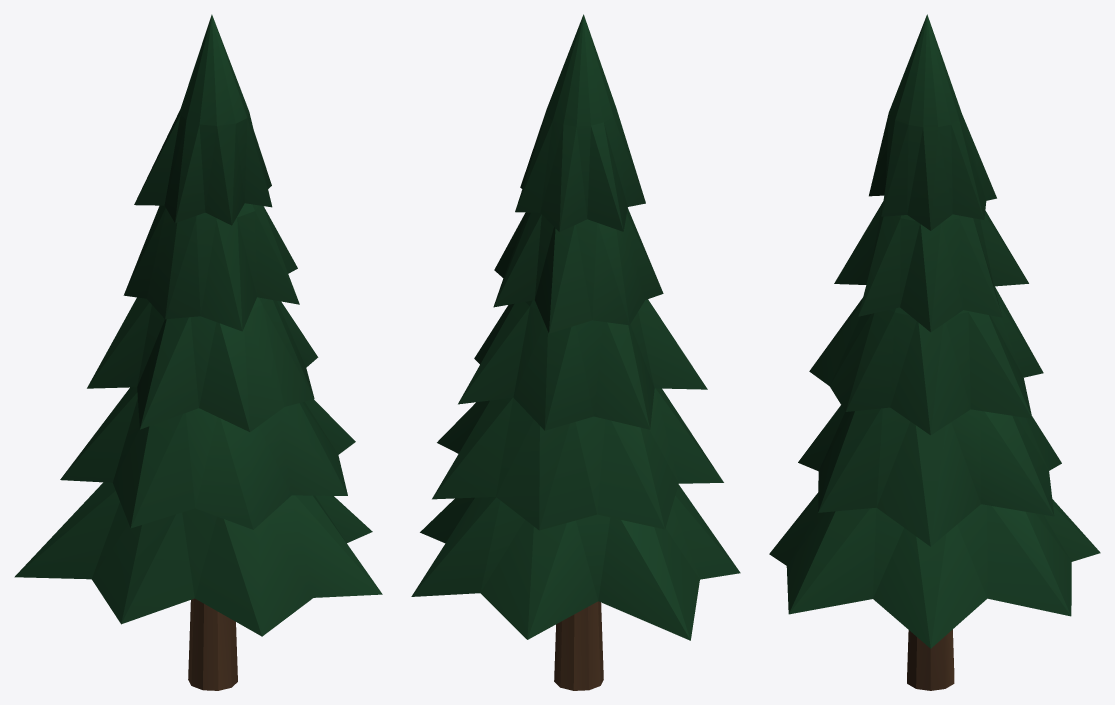
File: tree_pine_b.glb
3 renders of one model, left to right at view 1: azimuth 30°, elevation 25°; view 2: azimuth 150°, elevation 25°; view 3: azimuth 270°, elevation 25°, orthographic.
Visible parts, largest first — view 1: layer, layer.001, layer.002, layer.003, layer.004, trunk; view 2: layer, layer.001, layer.002, layer.004, layer.003, trunk; view 3: layer, layer.001, layer.002, layer.003, layer.004, trunk.
Boxes of the visible parts, x1,y1,x2,y2 form: layer: [14, 482, 382, 636]; layer.001: [60, 387, 355, 529]; layer.002: [87, 297, 318, 431]; layer.003: [123, 203, 299, 331]; layer.004: [134, 14, 272, 225]; trunk: [188, 598, 237, 690]; layer: [411, 484, 740, 640]; layer.001: [432, 388, 723, 530]; layer.002: [458, 299, 707, 430]; layer.004: [515, 14, 645, 232]; layer.003: [493, 208, 663, 333]; trunk: [554, 601, 603, 690]; layer: [769, 492, 1100, 648]; layer.001: [798, 405, 1061, 546]; layer.002: [809, 286, 1043, 435]; layer.003: [834, 201, 1028, 332]; layer.004: [869, 14, 996, 230]; trunk: [907, 629, 954, 690].
Size of the model in its own units: 2.32 by 4.7 by 2.13.
